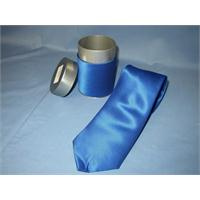tie: (74, 64, 169, 172)
